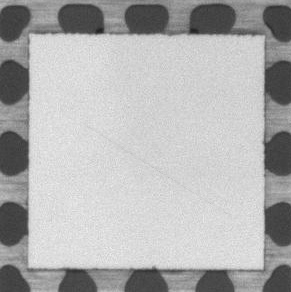DIE_CRACK: (84, 124, 230, 217)
